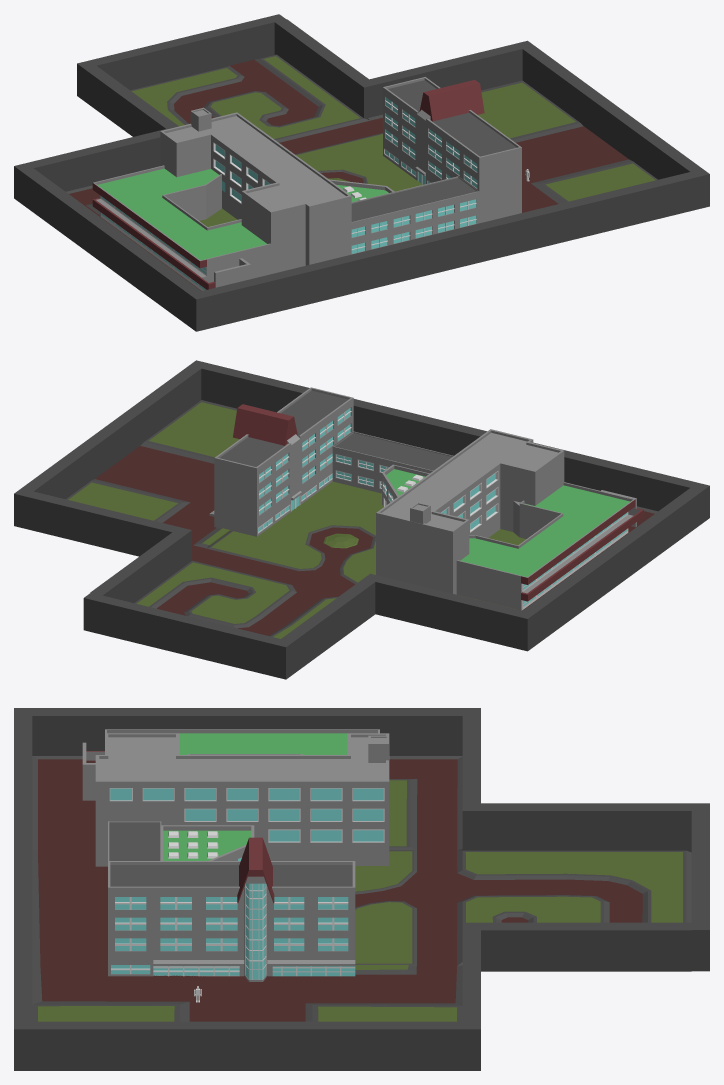
Rendered from School.fbx.
The picture shows the model from 3 angles, top to bottom: view 1: azimuth 30°, elevation 25°; view 2: azimuth 150°, elevation 25°; view 3: azimuth 270°, elevation 25°; orthographic projection. The views are drawn at different scales.
Visible parts, largest first — view 1: wall6, School building2, school building5, School building1, Ground2, Ground3, wall5, wall1, wall2, wall4, wall3, School building3 (+3 smaller); view 2: School building2, School building1, school building5, Ground3, wall6, Ground2, Ground1, wall4, wall1, wall5, wall3, wall2 (+3 smaller); view 3: School building1, School building2, wall2, Ground2, Ground3, wall5, wall4, Ground5, wall1, Ground4, Ground1, wall6 (+4 smaller).
Boxes of the visible parts, x1,y1,x2,y2 form: wall6: (202, 172, 697, 328); School building2: (160, 107, 351, 273); school building5: (92, 165, 270, 290); School building1: (383, 77, 521, 223); Ground2: (130, 54, 382, 154); Ground3: (367, 80, 657, 212); wall5: (14, 163, 208, 331); wall1: (274, 19, 522, 118); wall2: (515, 40, 709, 209); wall4: (27, 65, 178, 191); wall3: (77, 14, 285, 100); School building3: (351, 176, 479, 254); School building2: (376, 429, 564, 594); School building1: (209, 387, 353, 536); school building5: (456, 482, 643, 610); Ground3: (66, 400, 239, 558); wall6: (201, 363, 696, 511); Ground2: (134, 548, 354, 638); Ground1: (206, 481, 383, 584); wall4: (281, 573, 521, 673); wall1: (26, 491, 191, 602); wall5: (515, 482, 709, 651); wall3: (83, 593, 293, 679); wall2: (14, 360, 207, 528); School building1: (108, 837, 355, 981); School building2: (95, 733, 389, 866); wall2: (14, 1021, 480, 1070); Ground2: (417, 850, 691, 966); Ground3: (32, 965, 462, 1021); wall5: (14, 708, 480, 755); wall4: (462, 716, 691, 852); Ground5: (32, 756, 462, 850); wall1: (462, 922, 691, 1021); Ground4: (32, 849, 107, 966); Ground1: (355, 850, 416, 966); wall6: (14, 716, 32, 1021).
Bounding box in the file's own units: 8300 × 1419 × 7600.
